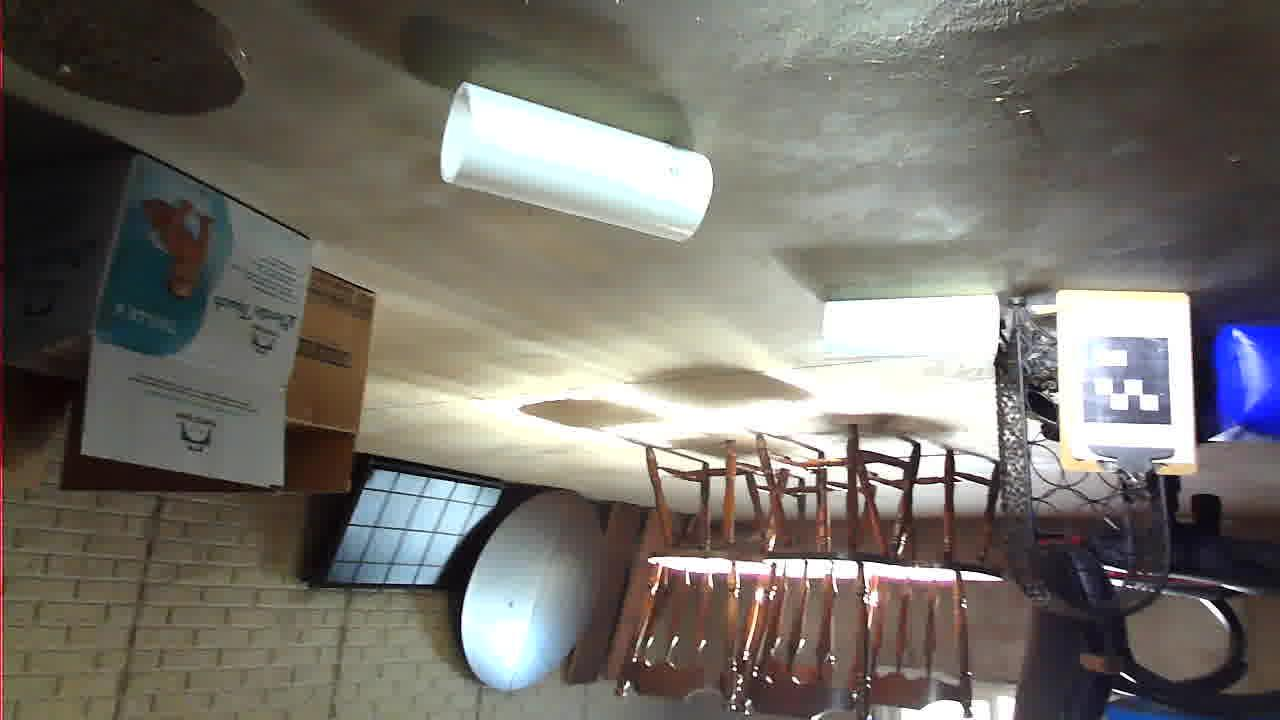coral: (567, 476, 841, 639), (281, 369, 459, 424)
